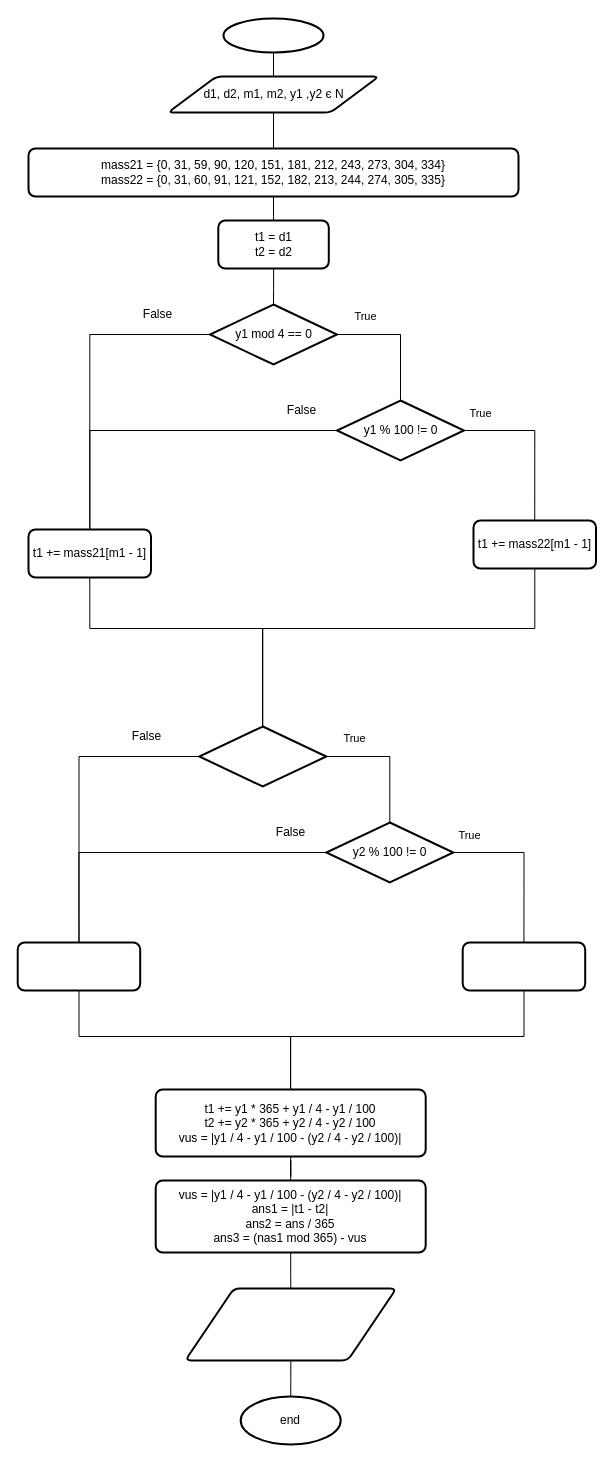
This 615x1462 diagram has some shape labels left out. Here are the shapes that lost their labels. From the top down, the box of each, then its label:
(222, 17, 324, 53): start
(198, 725, 327, 787): y2 mod 4 == 0
(16, 941, 141, 991): t2 += mass21[m1 - 1]
(461, 941, 586, 991): t2 += mass22[m1 - 1]
(184, 1287, 397, 1361): всього днів ans1 повних років і днів ans2, ans3
